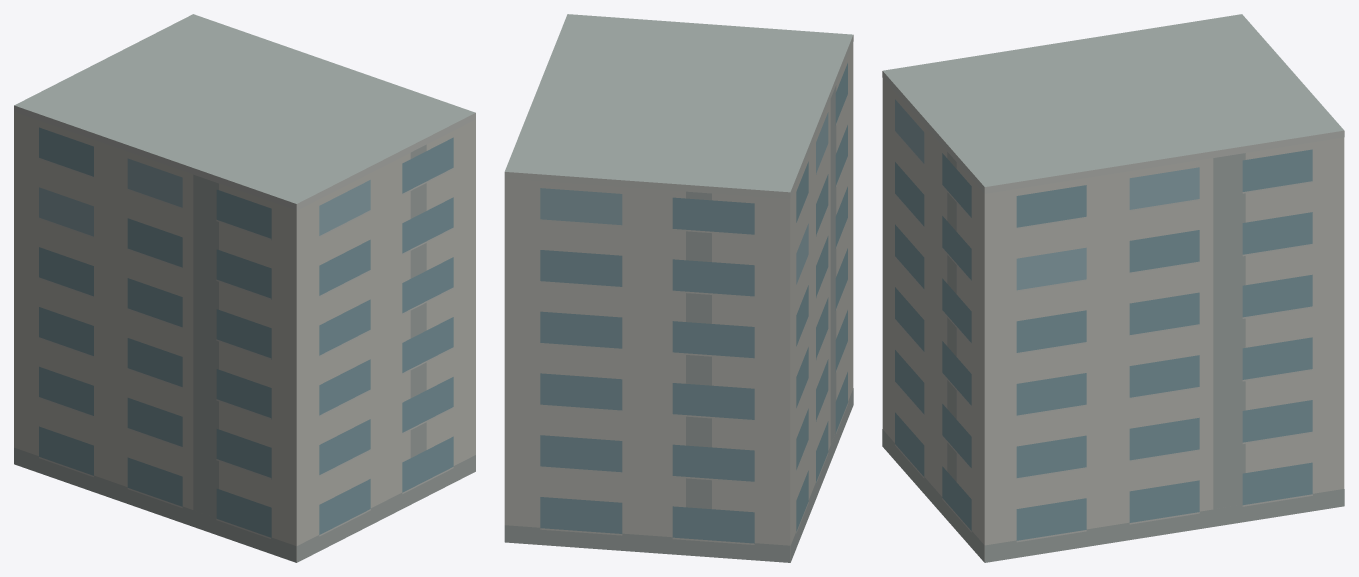
File: survey-upis-32851433.glb
3 renders of one model, left to right at view 1: azimuth 30°, elevation 25°; view 2: azimuth 150°, elevation 25°; view 3: azimuth 270°, elevation 25°, orthographic. The views are drawn at different scales.
Visible parts, largest first — view 1: survey-upis-32851433.tmp; view 2: survey-upis-32851433.tmp; view 3: survey-upis-32851433.tmp.
Boxes of the visible parts, x1,y1,x2,y2 form: survey-upis-32851433.tmp: (14, 14, 475, 562); survey-upis-32851433.tmp: (504, 14, 853, 562); survey-upis-32851433.tmp: (882, 14, 1344, 562).
Bounding box in the file's own units: 13.05 × 13.2 × 14.72.
